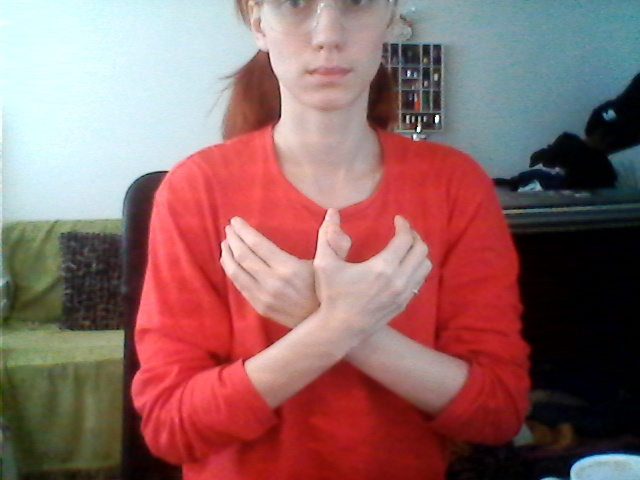lekar: (198, 211, 483, 396)
